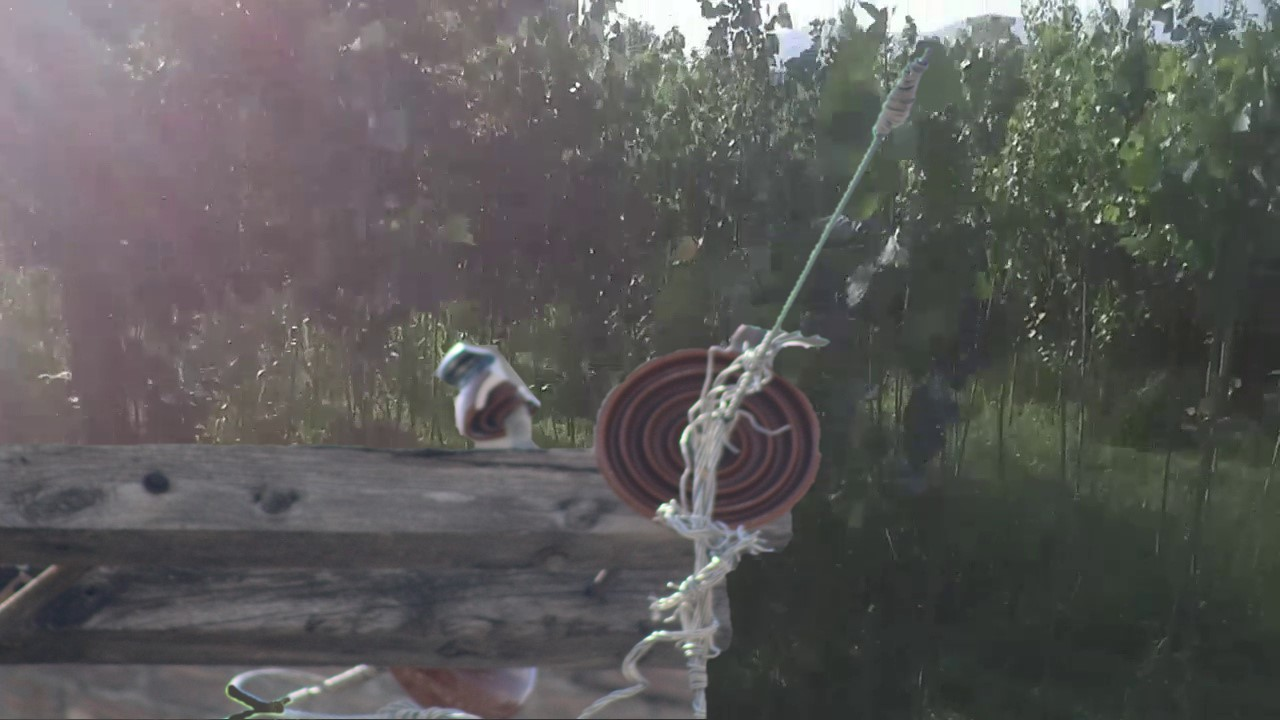defect_pin: (431, 334, 546, 454)
insulator_disc: (591, 340, 830, 542)
